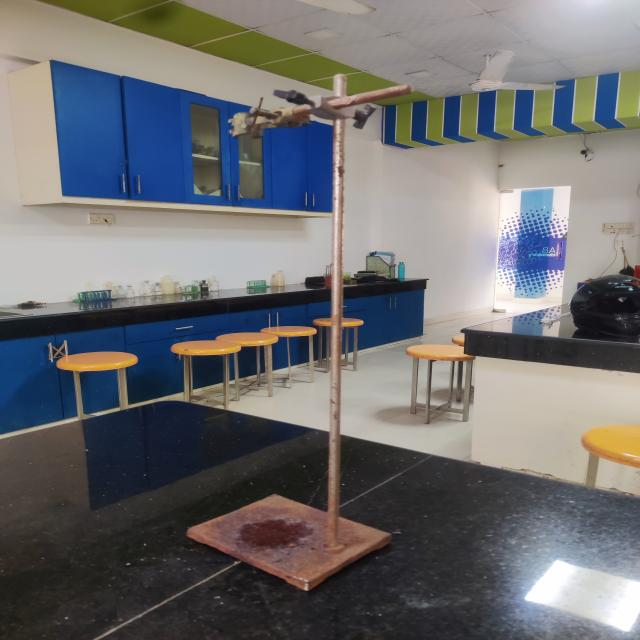Burette_Stands: (161, 61, 447, 607)
